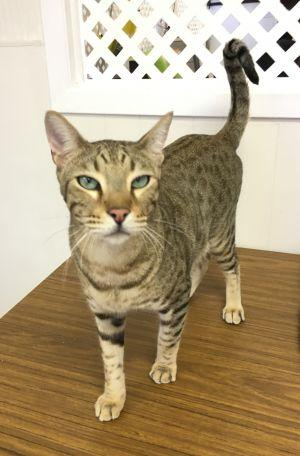bengal: (39, 101, 184, 253)
